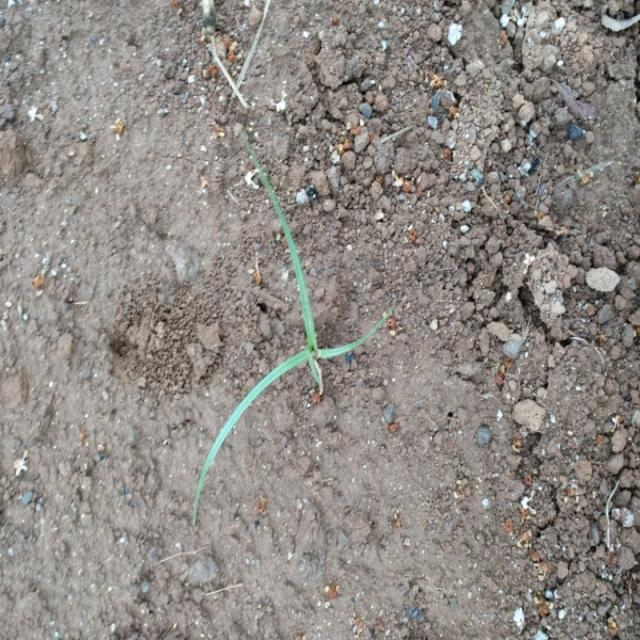sedge: (156, 184, 418, 494)
